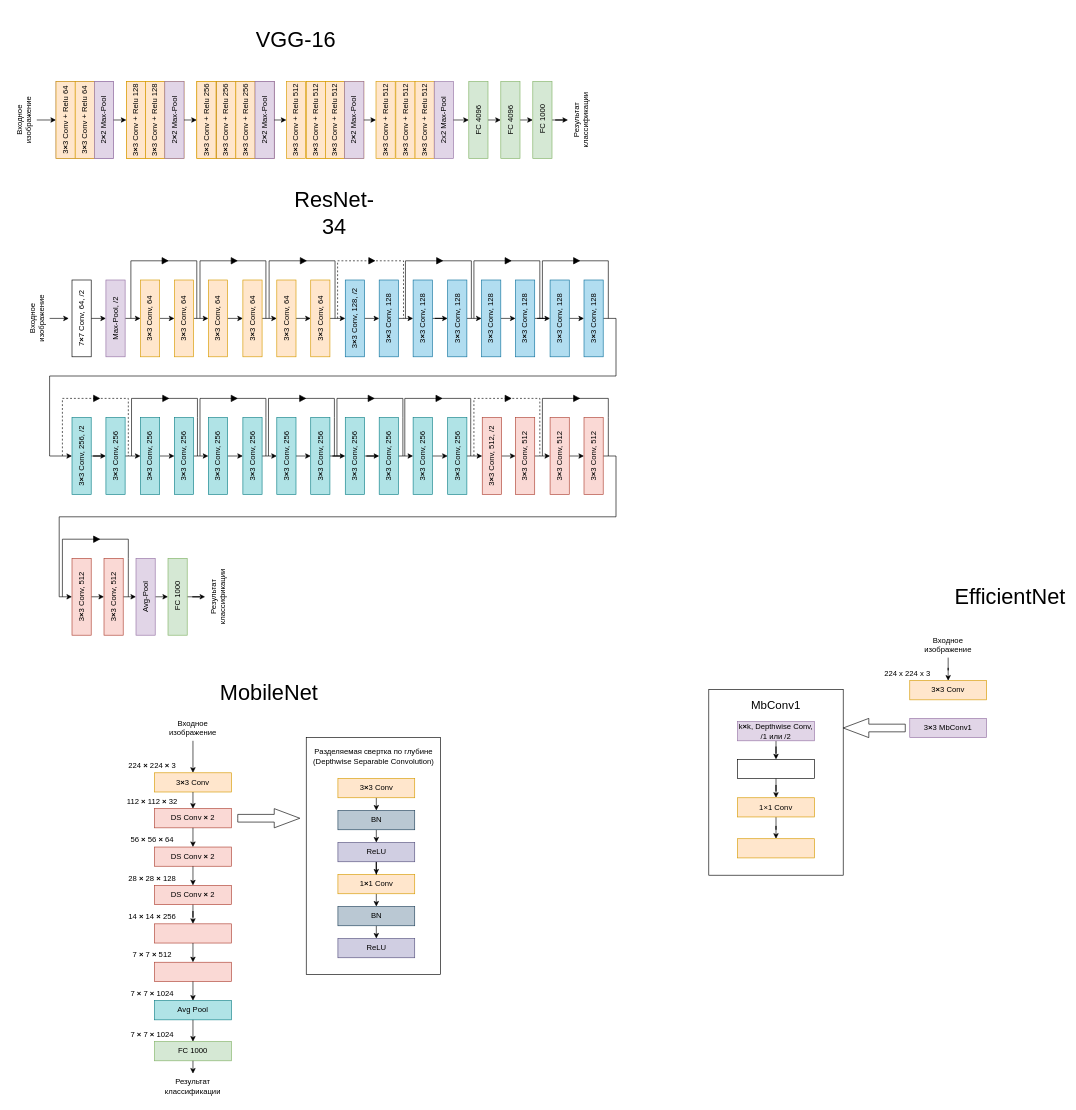
Some shapes in this 1076 by 1110 pixel diagram are drawn without their labels. The shapes that lost their labels are listed below. From the top down, each one's centre as x and y in pixels, then its label:
pixel 775 769: SE
pixel 775 848: Dropout
pixel 192 933: DS Conv × 6
pixel 192 971: DS Conv
